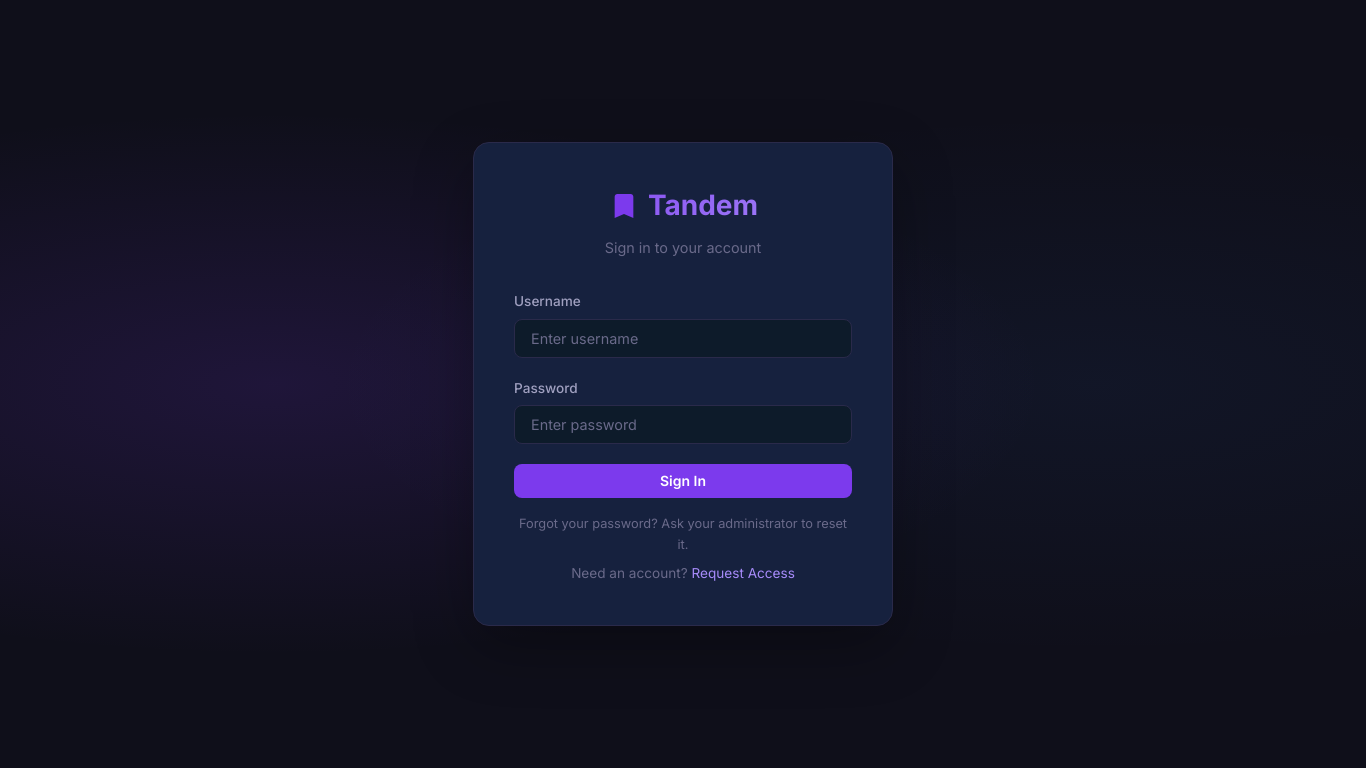
Test: LoginPage — request access › shows the approval notice, clears the fields and returns to sign-in
Click the link "Request Access": (743, 573) [692,565,795,581]
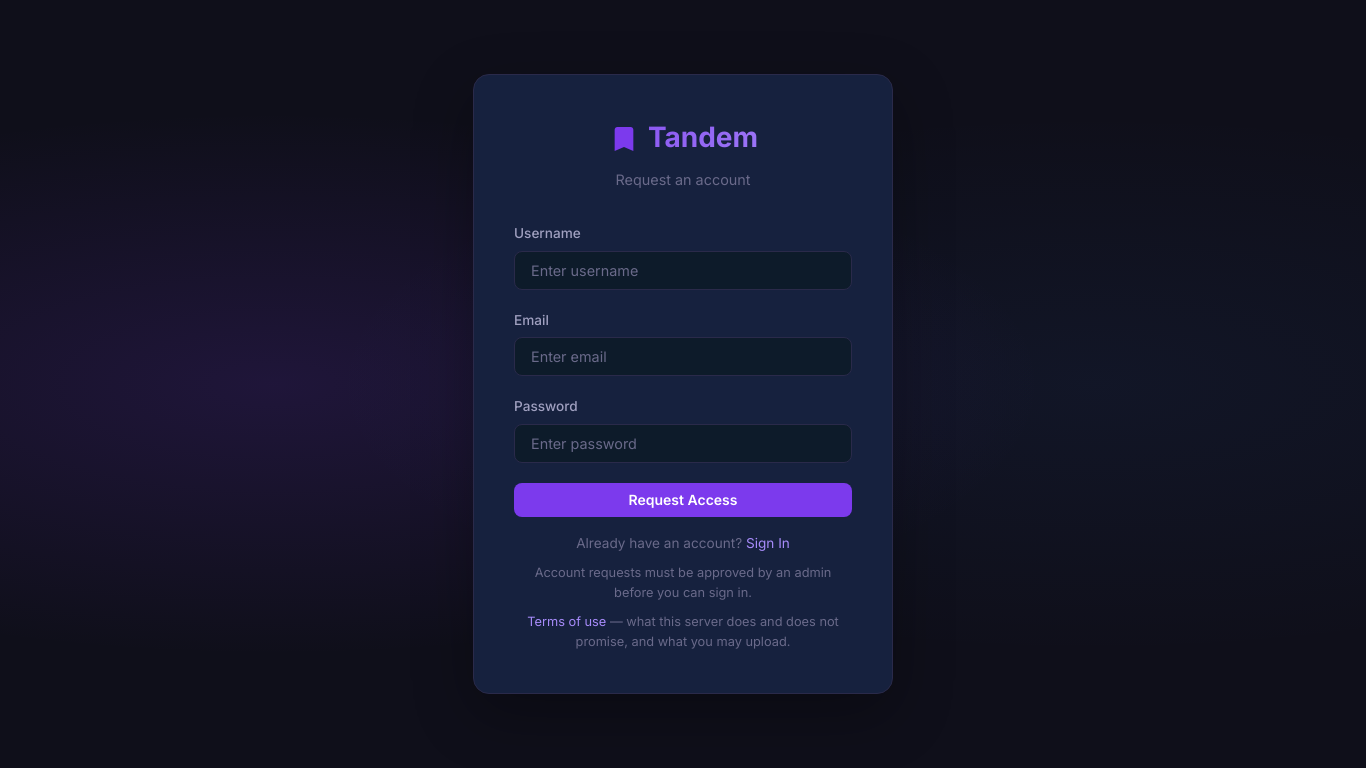
In the field labelled "Username": (683, 270) [514,251,852,290], type "alice"
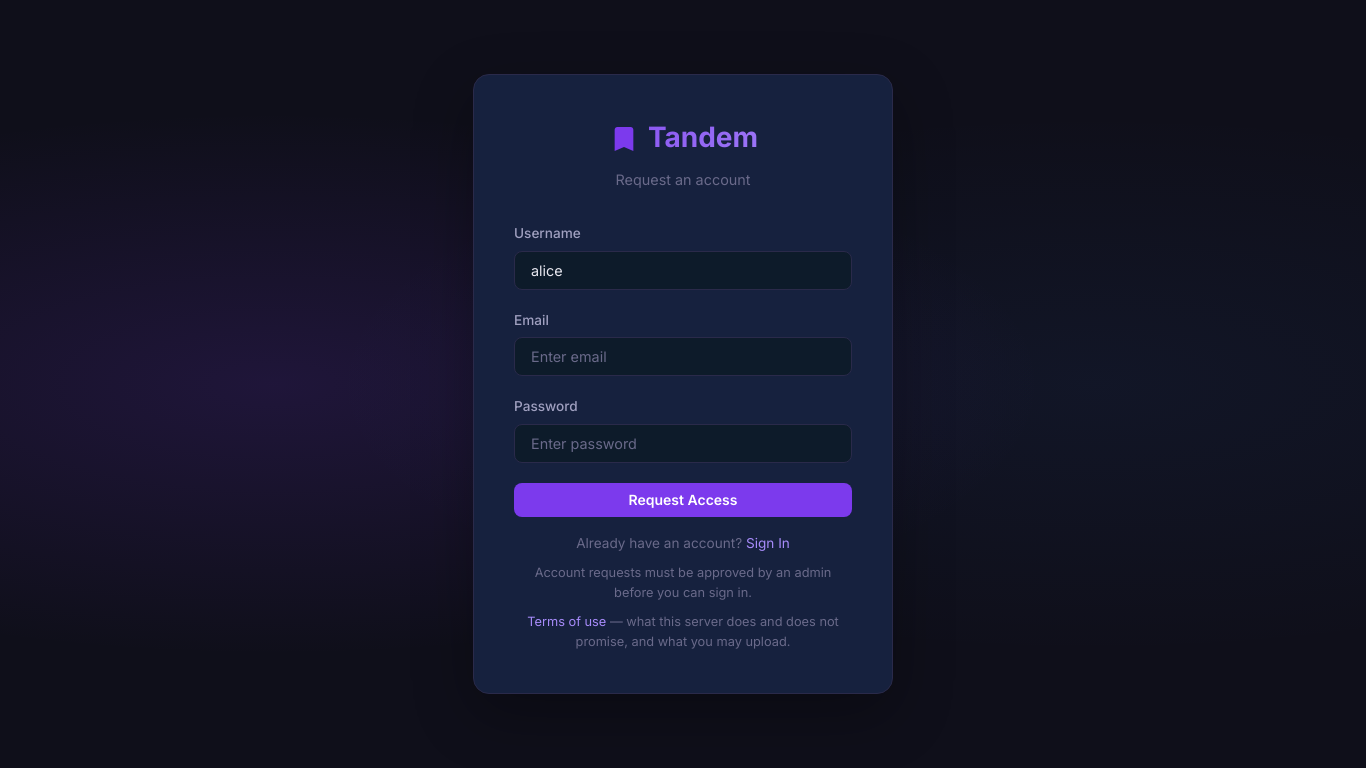
In the password field labelled "Password": (683, 444) [514,424,852,463], type "hunter2"
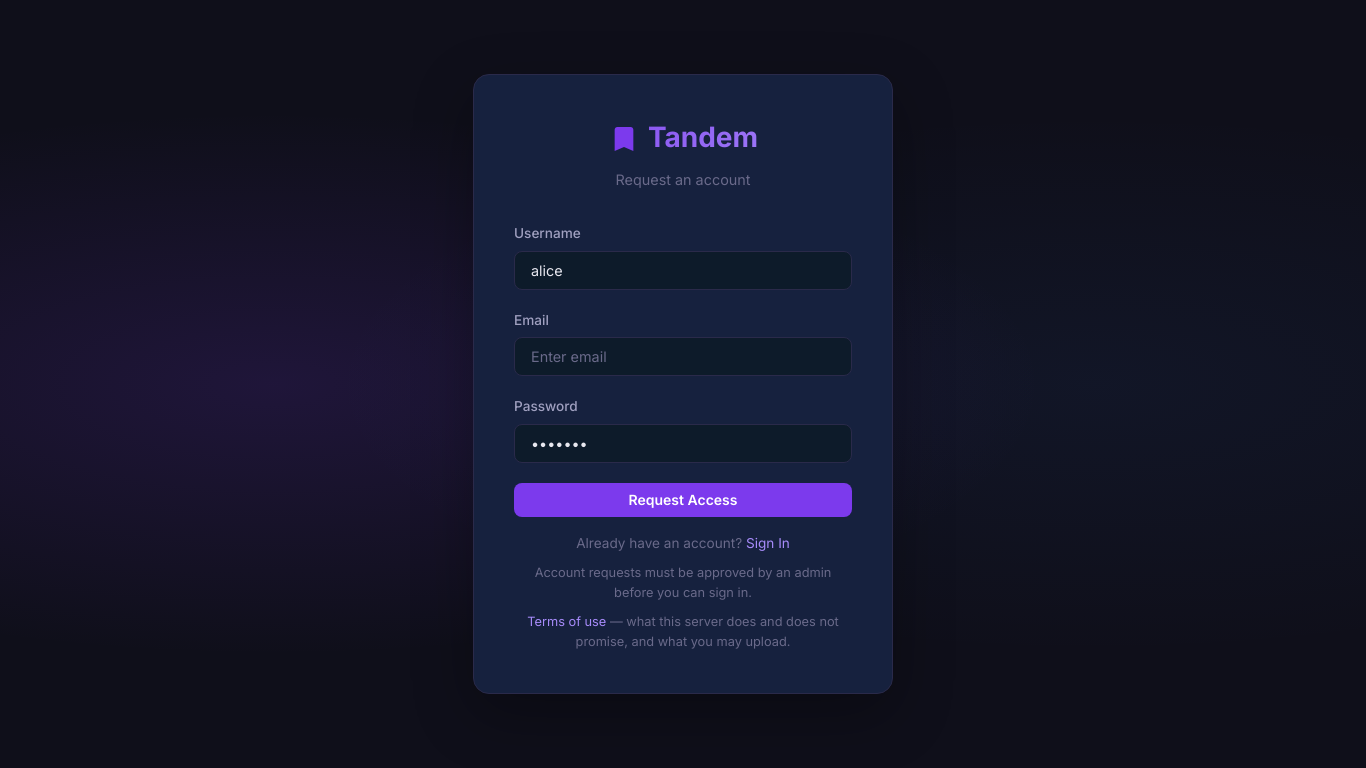
In the field labelled "Email": (683, 357) [514,338,852,376], type "alice@example.com"
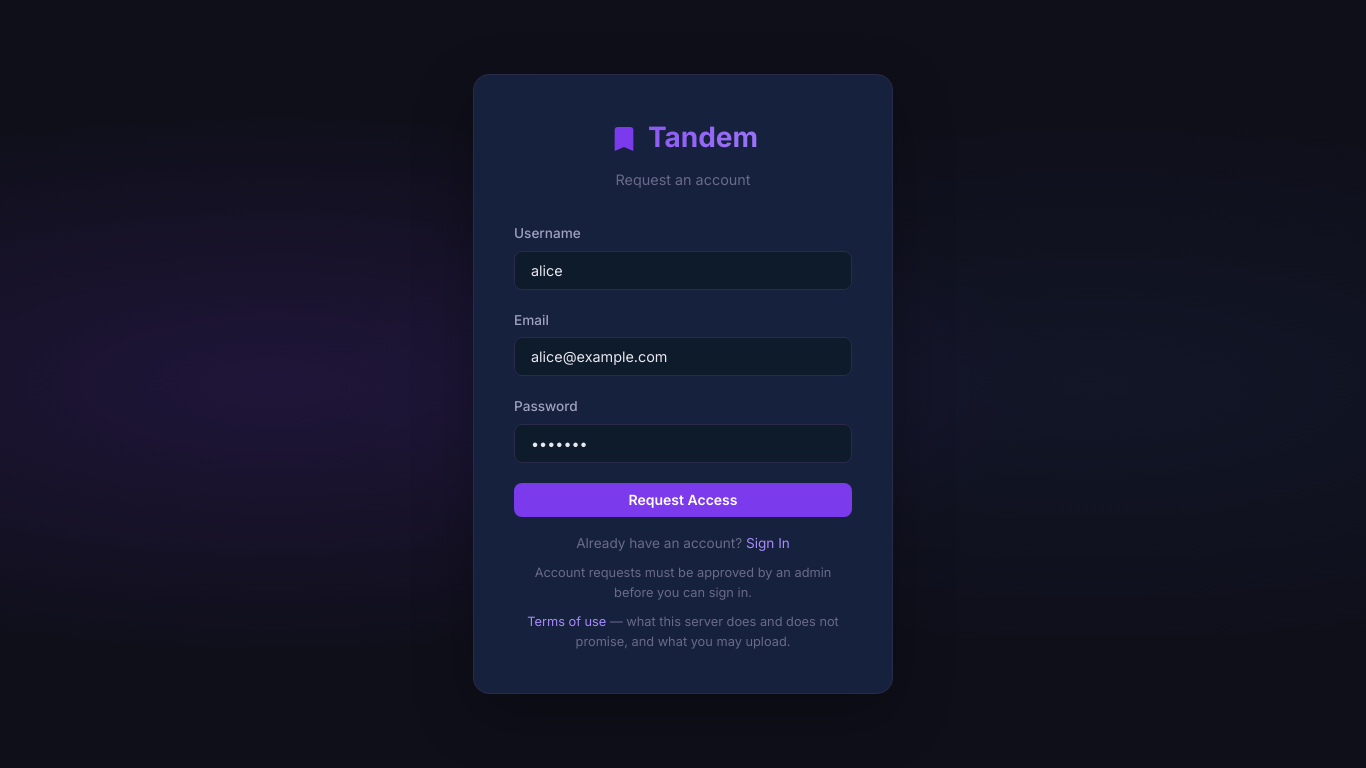
Click the button: (683, 500) [514,483,852,517]
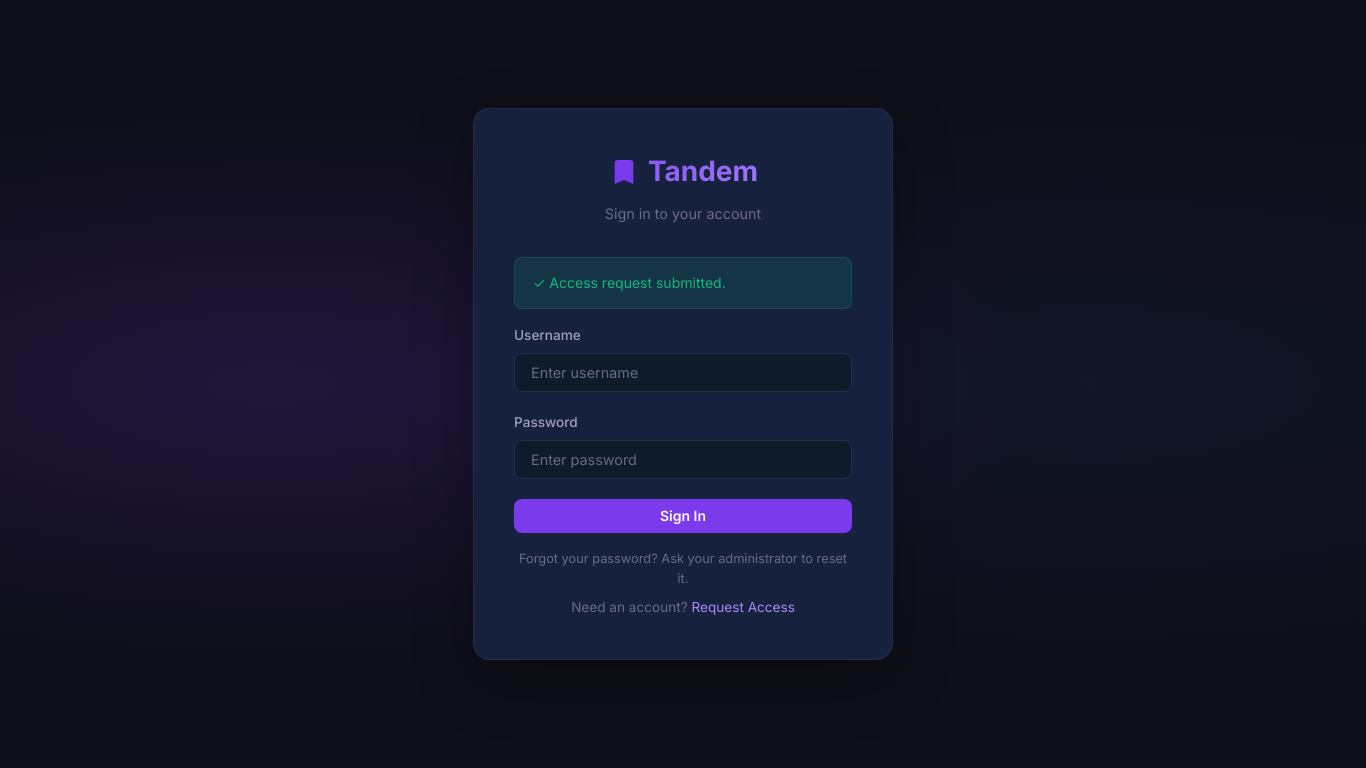
Now the text "✓ Access request submitted." is shown, box [514,257,852,309]
Now the field labelled "Username" is empty, box [514,353,852,392]
Now the password field labelled "Password" is empty, box [514,440,852,478]
